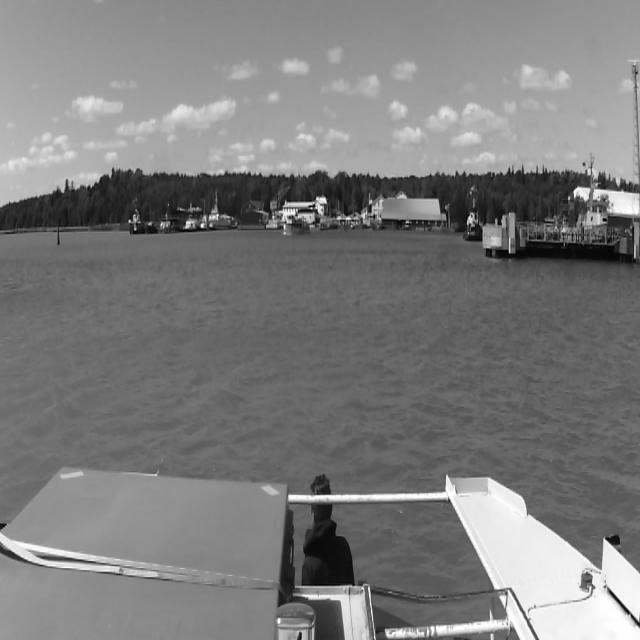buoy: (54, 224, 62, 247)
ship: (517, 195, 614, 239), (208, 191, 234, 229), (126, 205, 153, 235), (466, 184, 480, 241), (282, 214, 312, 235)
